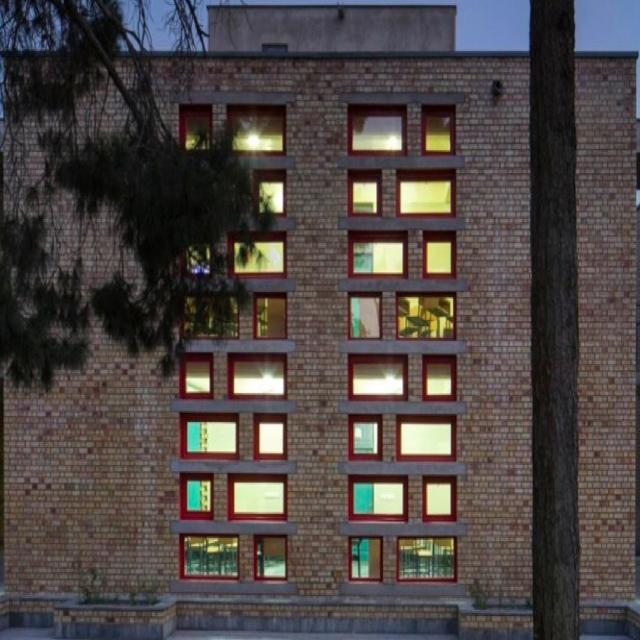wall: (4, 0, 637, 634)
windows: (397, 291, 457, 340), (349, 355, 408, 401), (184, 535, 240, 578), (350, 480, 408, 520), (398, 541, 457, 580), (232, 114, 286, 155), (233, 360, 287, 400), (233, 479, 287, 517), (400, 422, 456, 458), (352, 241, 406, 278), (232, 237, 285, 274), (186, 420, 240, 456), (398, 183, 452, 213), (354, 117, 402, 150), (180, 108, 212, 154), (352, 537, 383, 582), (256, 538, 289, 579), (184, 474, 214, 518), (422, 480, 455, 519), (351, 298, 383, 338), (181, 359, 213, 398), (257, 297, 287, 338), (425, 361, 455, 401), (257, 178, 287, 218), (352, 420, 380, 456), (259, 419, 287, 455), (427, 240, 453, 275), (352, 181, 378, 211), (428, 118, 452, 150)
